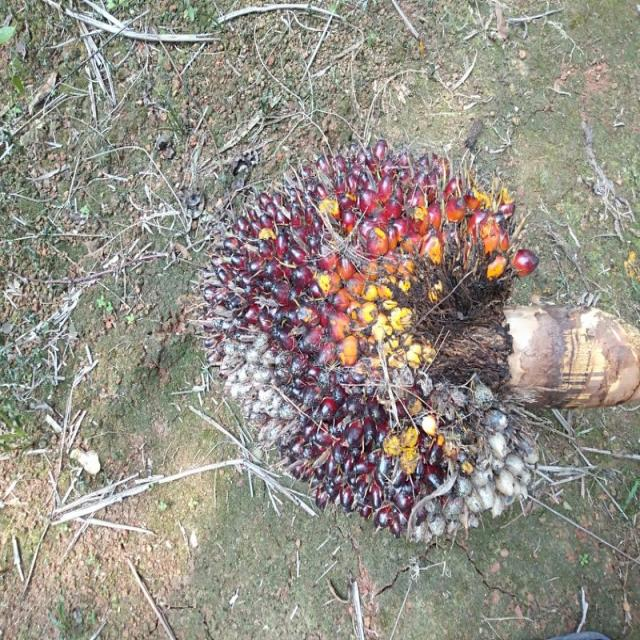fraksi 1: (188, 142, 546, 542)
